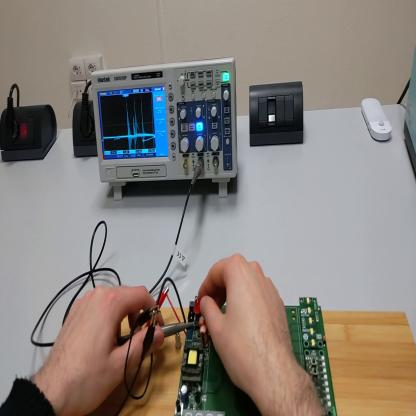hand: (49, 282, 169, 415), (198, 252, 300, 401)
low voltage board: (158, 276, 338, 416)
oscilloscope: (91, 60, 241, 202)
oscilloscope probe tip: (118, 322, 196, 349)
socket: (2, 105, 60, 161), (73, 102, 99, 158)
welder station: (403, 48, 416, 181)
working area: (93, 305, 416, 414)
